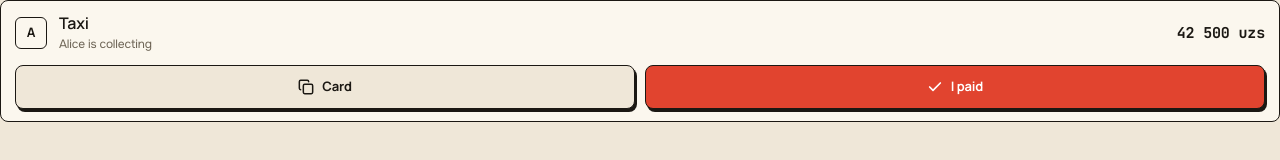
Test: OwingRow › moves the bill to the paid ones once the undo window is over
What coordinates should you click on to do the following:
click the button "I paid"
I would click on:
 (955, 87)
Its box is [645, 65, 1265, 109].
Wait 4000 ms
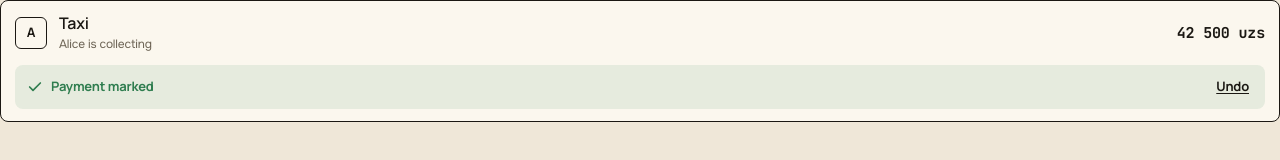
Check: the message shows "Payment marked", box [51, 77, 154, 95]
